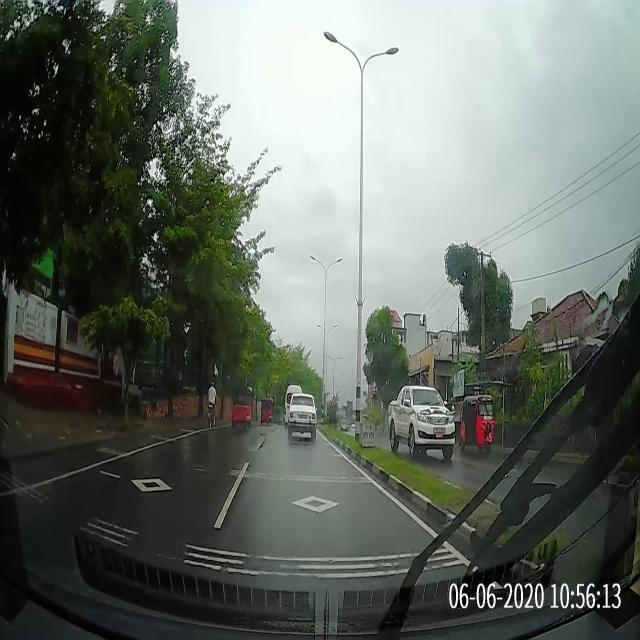diamond: (205, 476, 464, 552)
